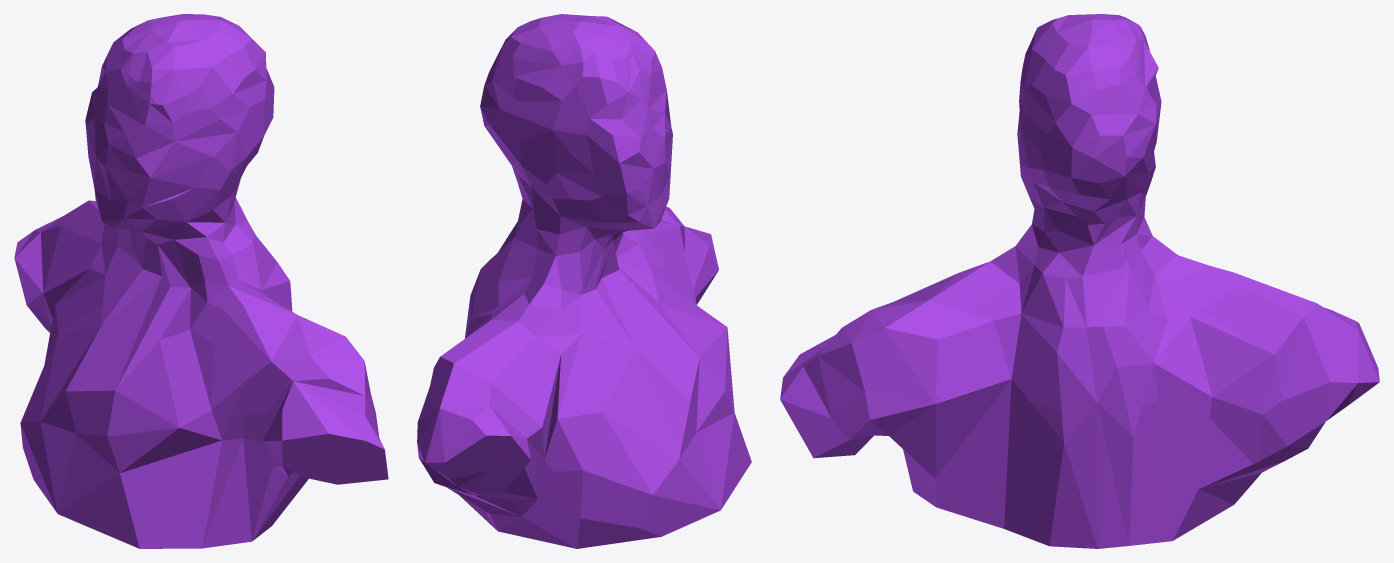
Rendered from Statue.002_chunks.fbx.
3 views of the same model, side by side, from view 1: azimuth 30°, elevation 25°; view 2: azimuth 150°, elevation 25°; view 3: azimuth 270°, elevation 25° (orthographic). The views are drawn at different scales.
Visible parts, largest first — view 1: Statue.002_0, Statue.002_5, Statue.002_2, Statue.002_3, Statue.002_1, Statue.002_6; view 2: Statue.002_1, Statue.002_3, Statue.002_0, Statue.002_2, Statue.002_5, Statue.002_6; view 3: Statue.002_4, Statue.002_2, Statue.002_6, Statue.002_1, Statue.002_3, Statue.002_5, Statue.002_0.
Part boxes in pixels (x1,y1,x2,y2): Statue.002_0: (62, 73, 358, 480); Statue.002_5: (53, 290, 388, 548); Statue.002_2: (126, 14, 367, 411); Statue.002_3: (20, 253, 150, 508); Statue.002_1: (14, 19, 153, 310); Statue.002_6: (139, 247, 292, 311); Statue.002_1: (417, 40, 647, 483); Statue.002_3: (418, 281, 712, 548); Statue.002_0: (594, 60, 735, 418); Statue.002_2: (480, 14, 658, 234); Statue.002_5: (613, 282, 751, 513); Statue.002_6: (464, 232, 616, 338); Statue.002_4: (902, 394, 1253, 548); Statue.002_2: (807, 14, 1153, 369); Statue.002_6: (917, 265, 1203, 412); Statue.002_1: (1108, 14, 1379, 401); Statue.002_3: (1190, 309, 1353, 499); Statue.002_5: (780, 348, 945, 499); Statue.002_0: (786, 209, 1036, 372).
Bounding box in the file's own units: 183 × 342 × 389.
